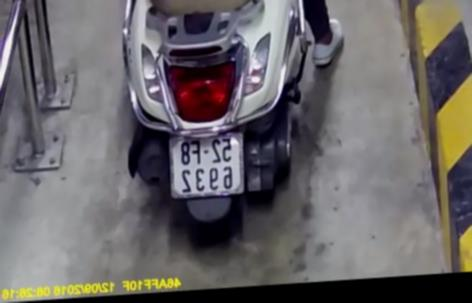License_Plate: (168, 128, 248, 205)
